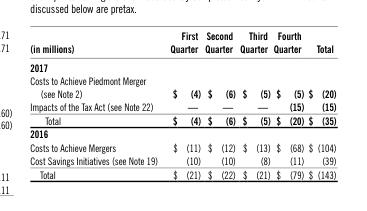table: (29, 28, 335, 180)
table column: (29, 28, 163, 180), (163, 28, 202, 180), (202, 28, 237, 180), (237, 28, 271, 180), (271, 28, 305, 180), (305, 28, 335, 180)
table column header: (29, 28, 335, 57)
table projected row header: (29, 57, 335, 73), (29, 126, 335, 140)
table row: (29, 28, 335, 57), (29, 73, 335, 99), (29, 57, 335, 73), (29, 99, 335, 113), (29, 126, 335, 140), (29, 153, 335, 167), (29, 113, 335, 126), (29, 140, 335, 153), (29, 167, 335, 180)
